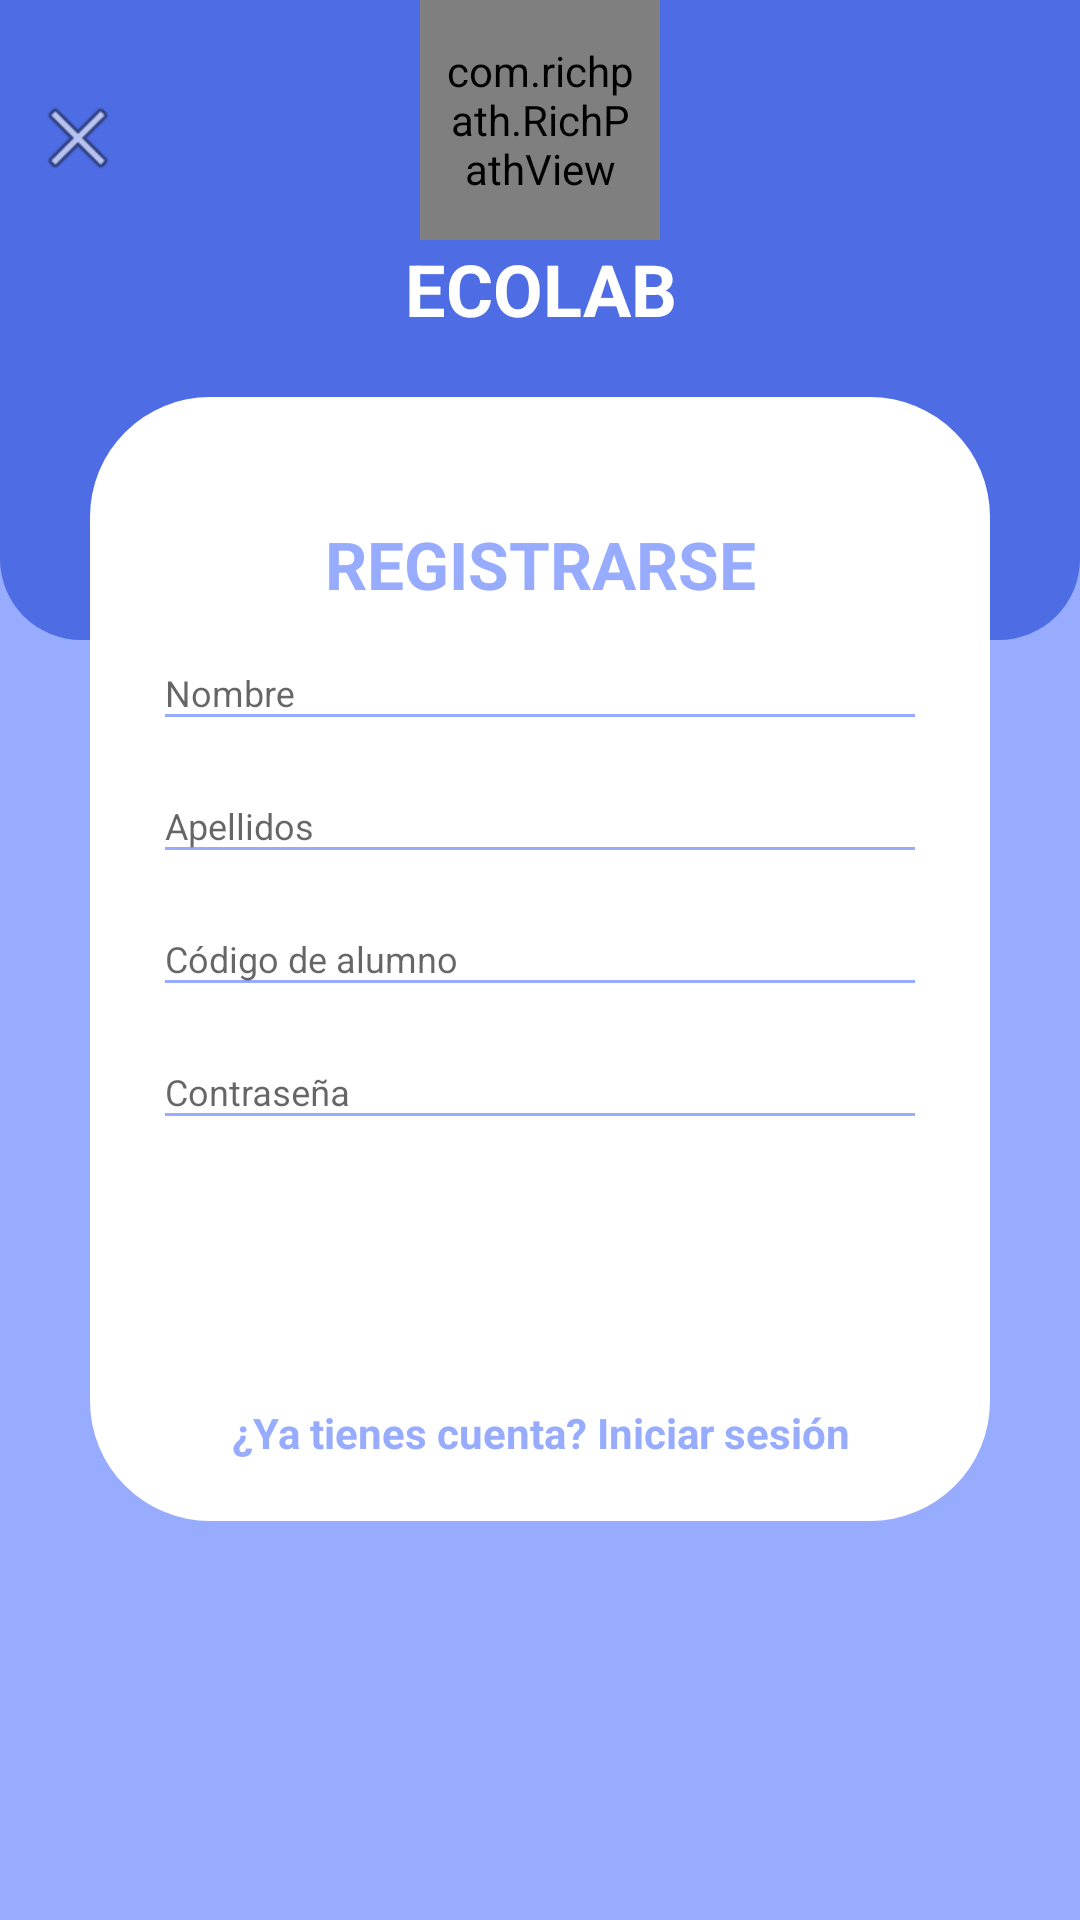

Screen size 1080w x 1920h. Icon name, then its center in pixels as [x,y]:
close clear cancel: [78,138]
